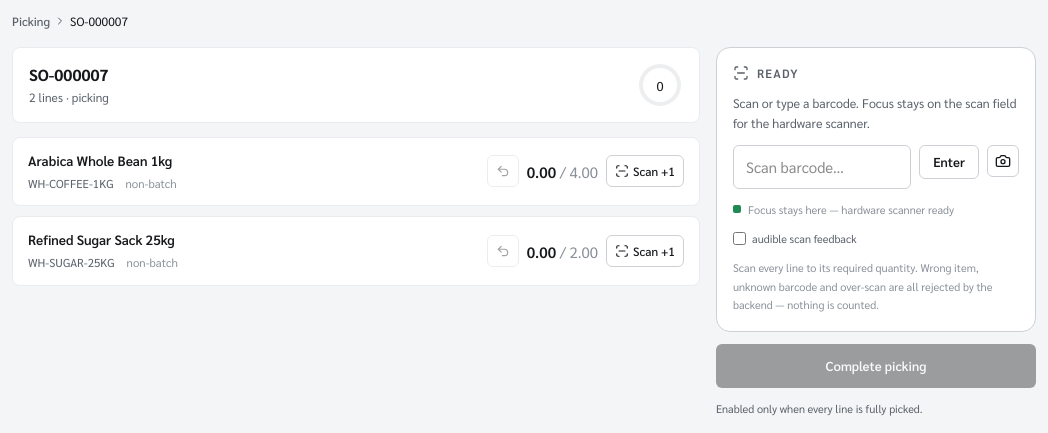
FulfillmentConsole — wrong item / over-scan › wrong item → Error, nothing counted, request id surfaced
In the field named "Barcode scan input": (822, 167) [733,145,911,189], type "999999999999"
Then press Enter
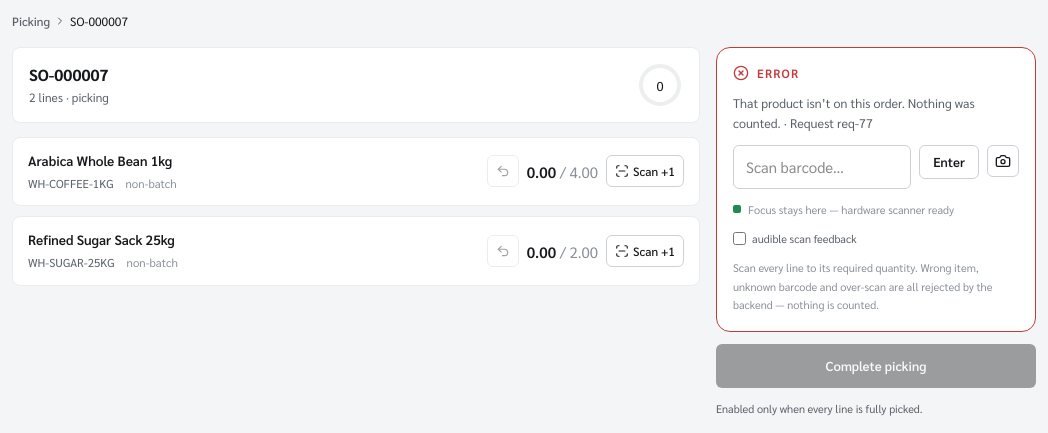
Result: the text "Error" is shown at [733,65,799,81]
Result: the text "req-77" is shown at [733,95,975,131]
